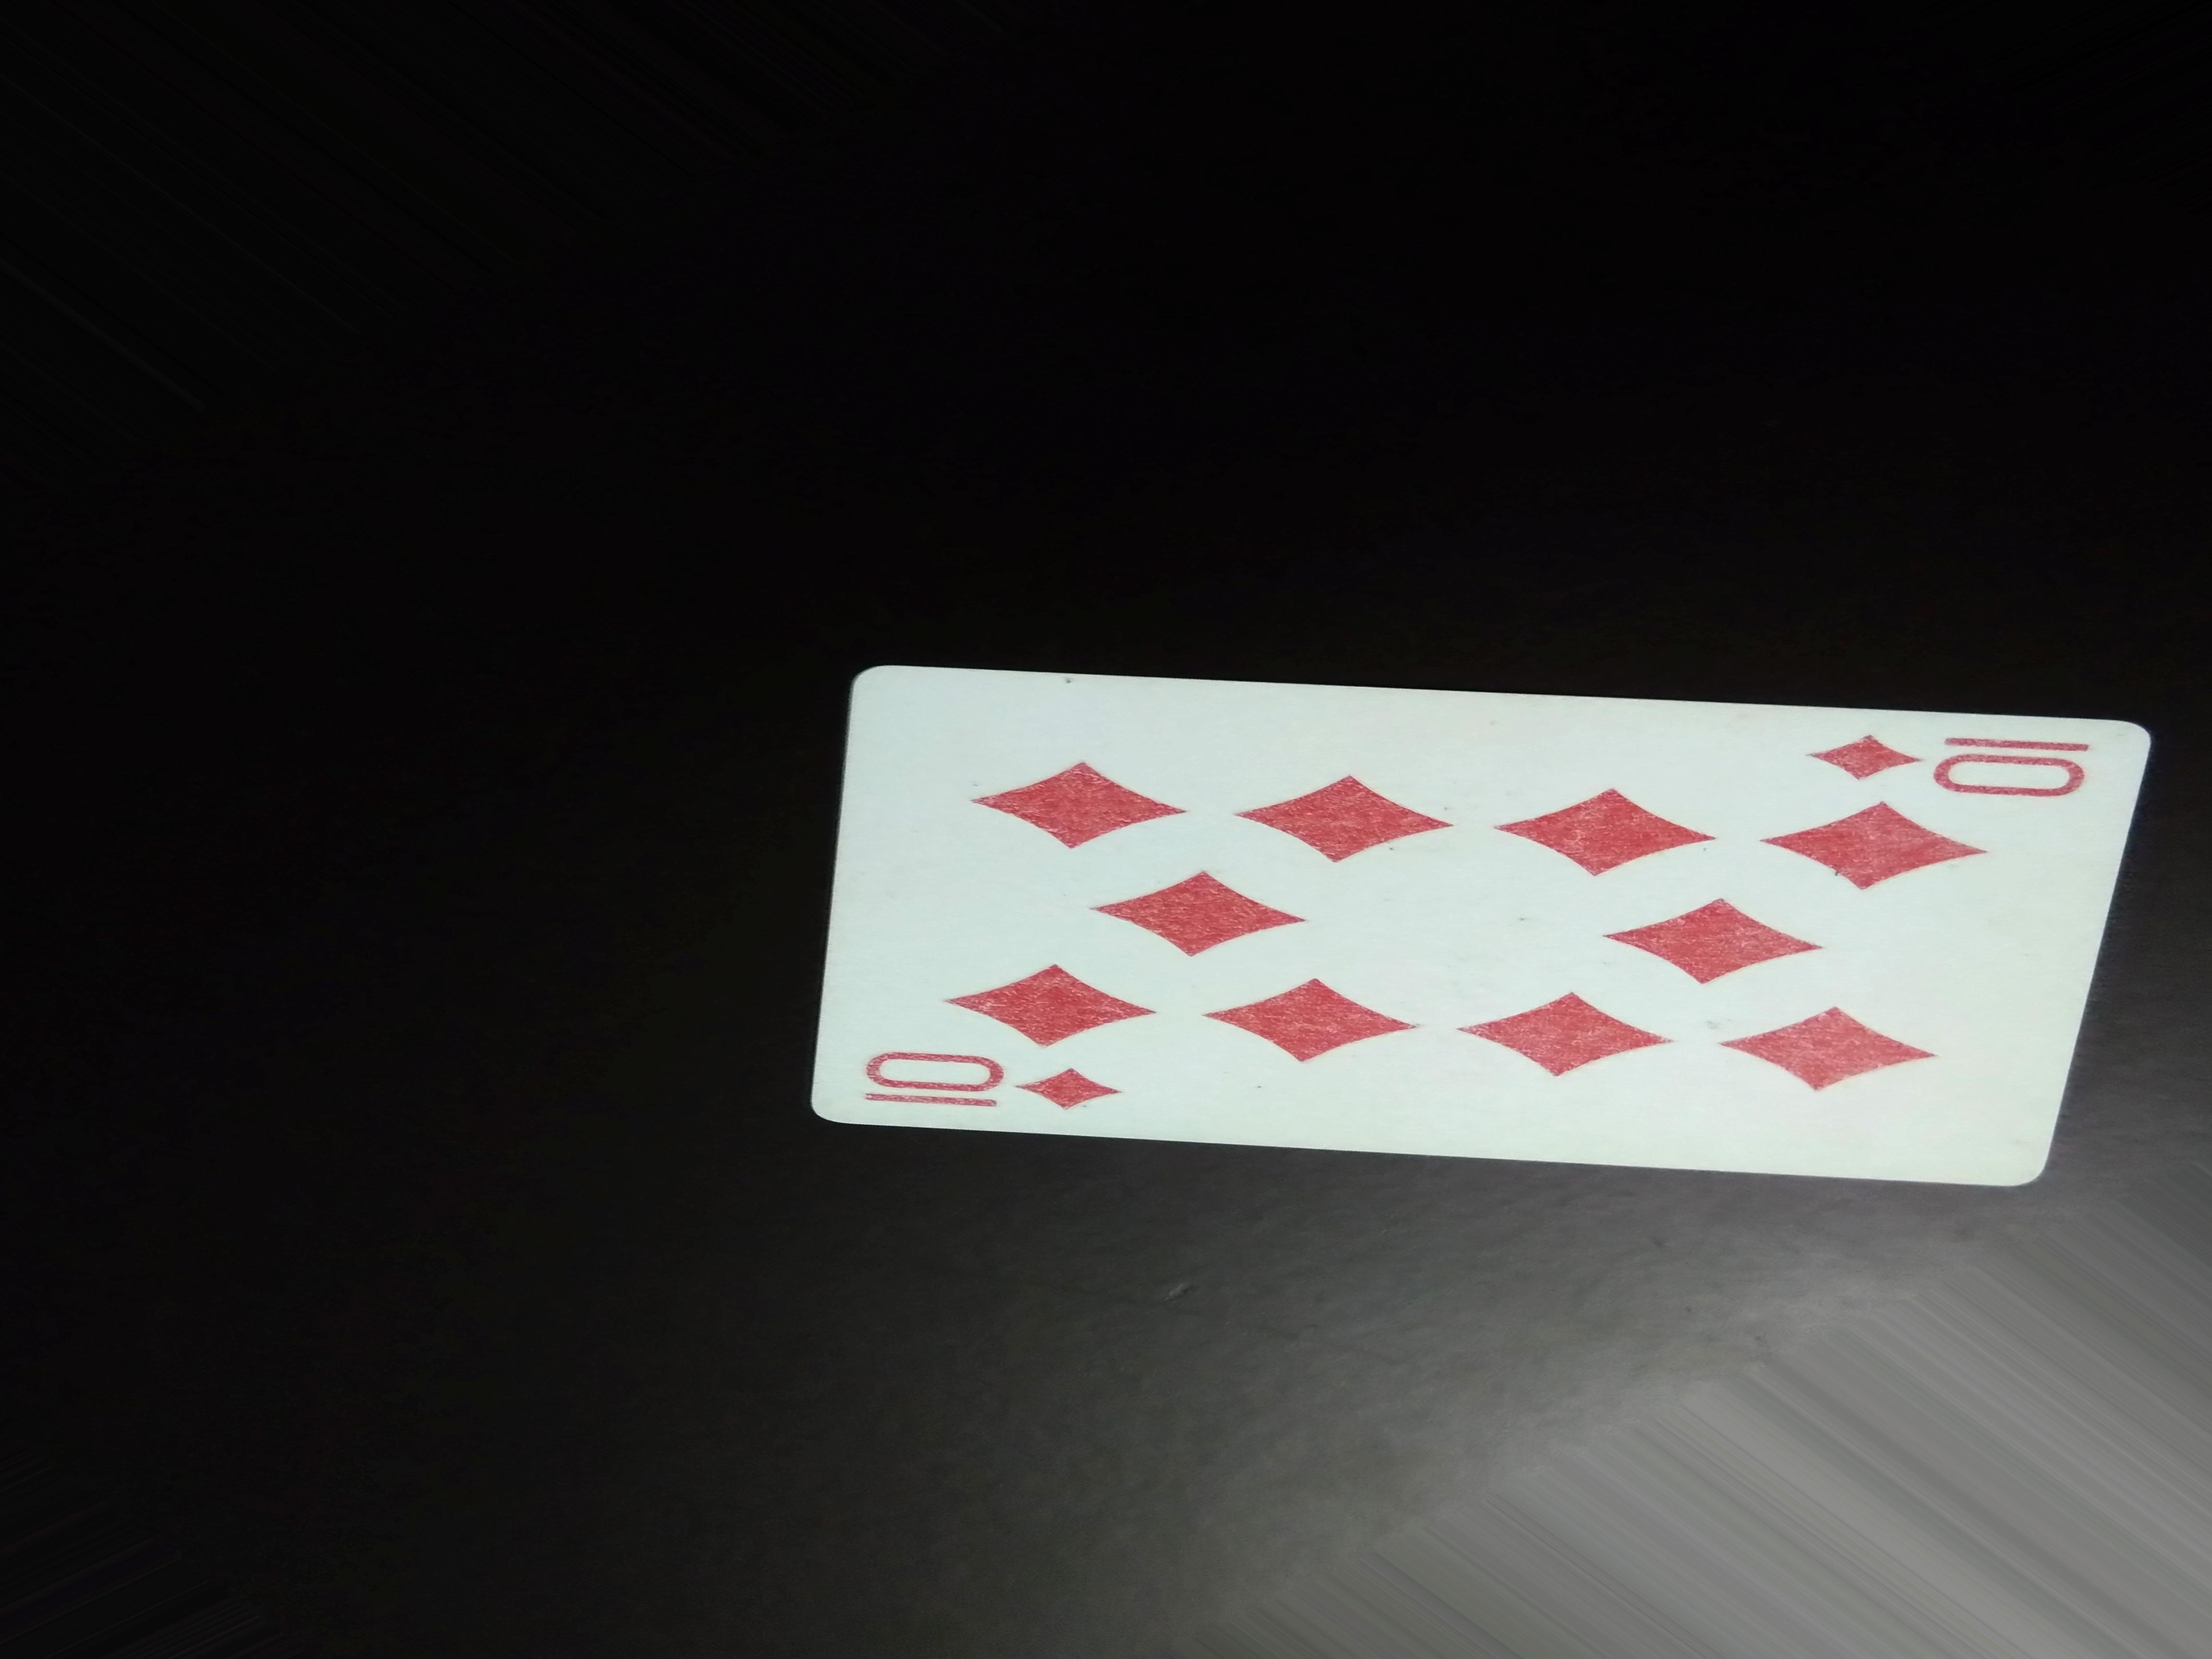10D: (845, 1040, 1136, 1154)
